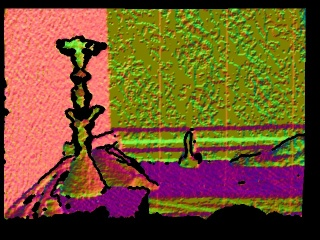station: (178, 129, 201, 169)
